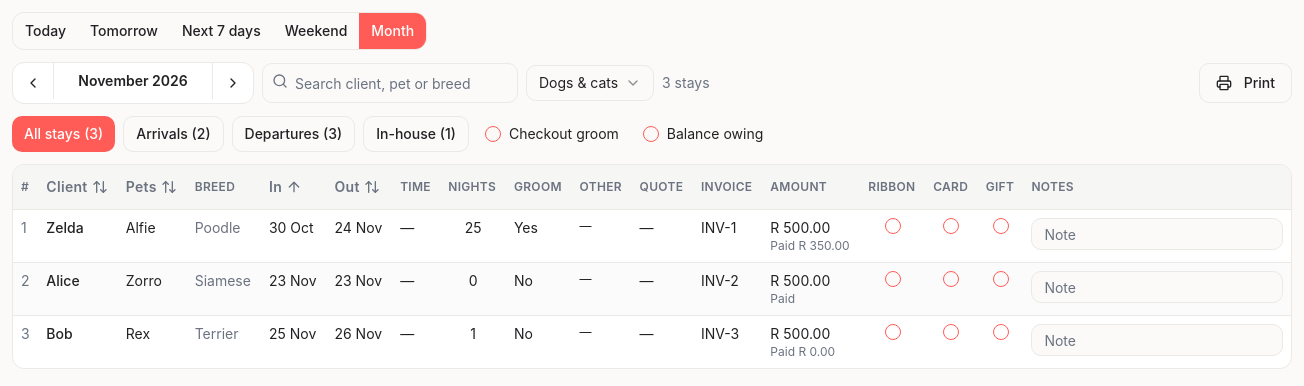
Test: searches client, pet and breed without excluding earlier-month stays
Later steps or results of the test are not shown.
Check: the link "Zelda" is shown, box [46, 219, 84, 236]
Type "Zelda" into the field labelled "Search client, pet or breed" at (390, 83), box [262, 63, 518, 103]
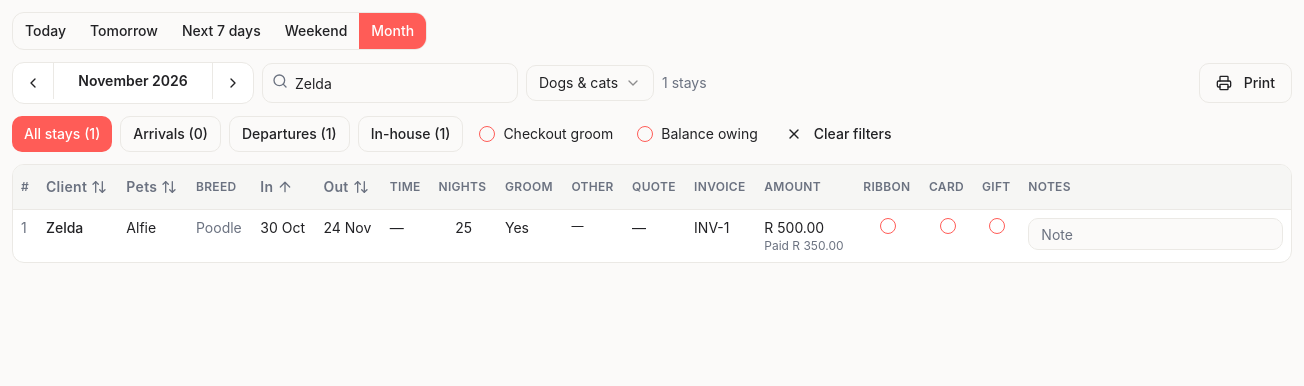
Check: the link "Zelda" is shown, box [46, 219, 83, 236]
Check: the link "Alice" is gone
